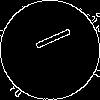I: (25, 25, 73, 56)
